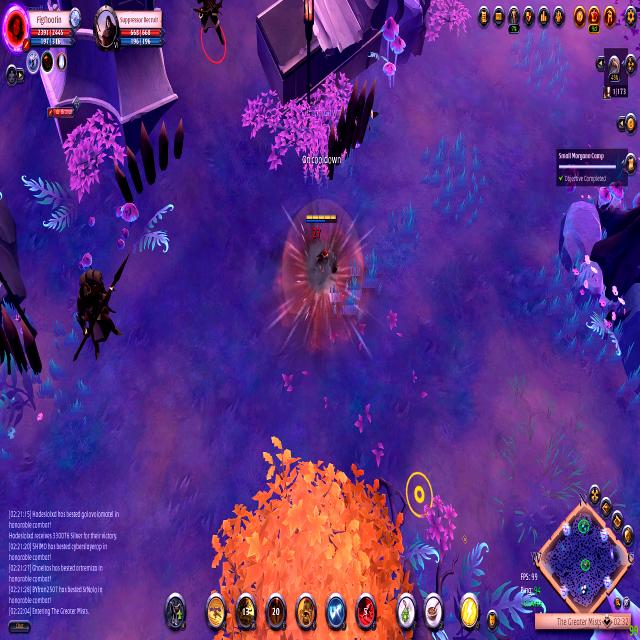ore: (67, 251, 130, 385), (184, 0, 237, 72)
red: (298, 206, 346, 305)
wisp caged: (206, 434, 422, 640)
